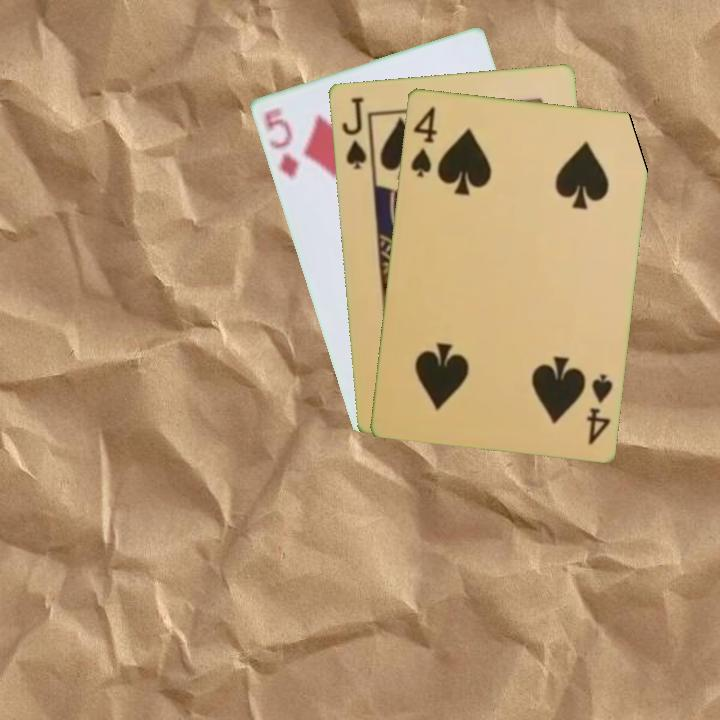4s: (407, 102, 440, 180), (582, 370, 615, 448)
5d: (260, 104, 301, 181)
Js: (337, 93, 369, 172)
